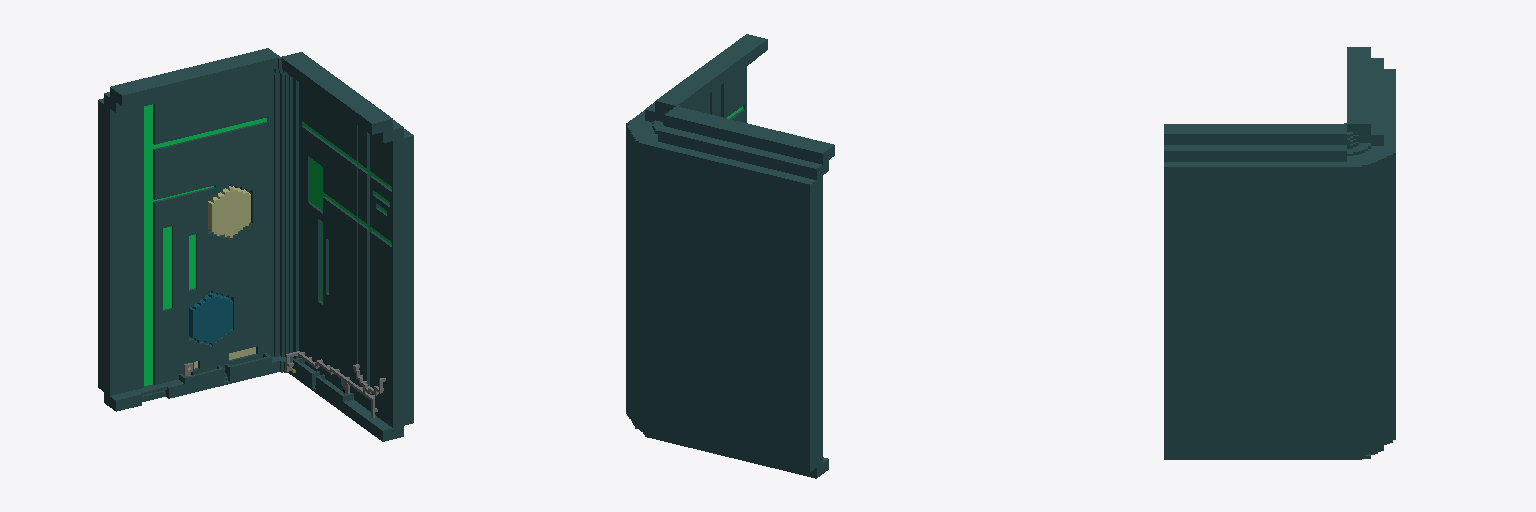
The picture shows the model from 3 angles: view 1: azimuth 30°, elevation 25°; view 2: azimuth 150°, elevation 25°; view 3: azimuth 270°, elevation 25°; orthographic projection.
Visible parts, largest first — view 1: base_wall_corner; view 2: base_wall_corner; view 3: base_wall_corner.
Boxes of the visible parts, <box> form: base_wall_corner: <box>98,48,413,441</box>; base_wall_corner: <box>626,34,834,478</box>; base_wall_corner: <box>1164,47,1395,459</box>.
Bounding box in the file's own units: 76 × 116 × 76.
1 materials, 1 textured.